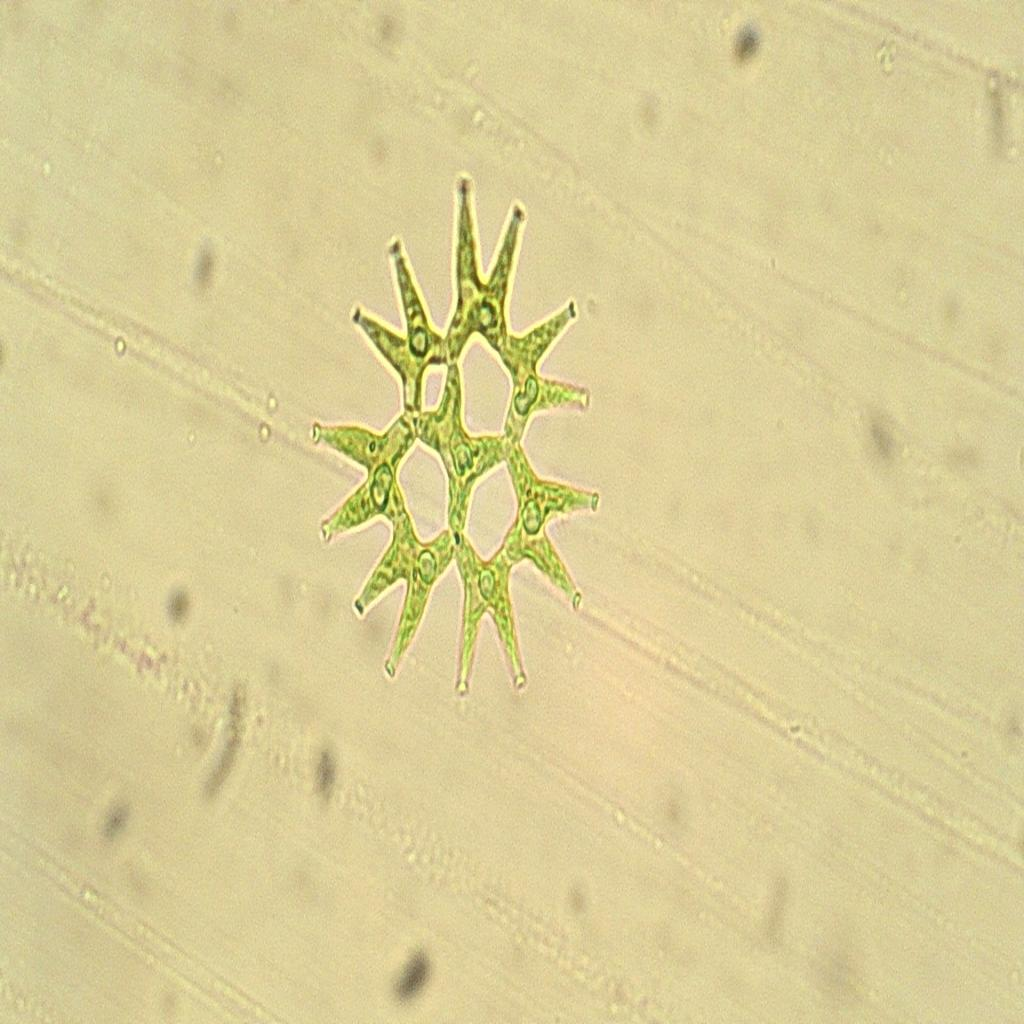Pediastrum_CTH: (303, 140, 618, 722)
